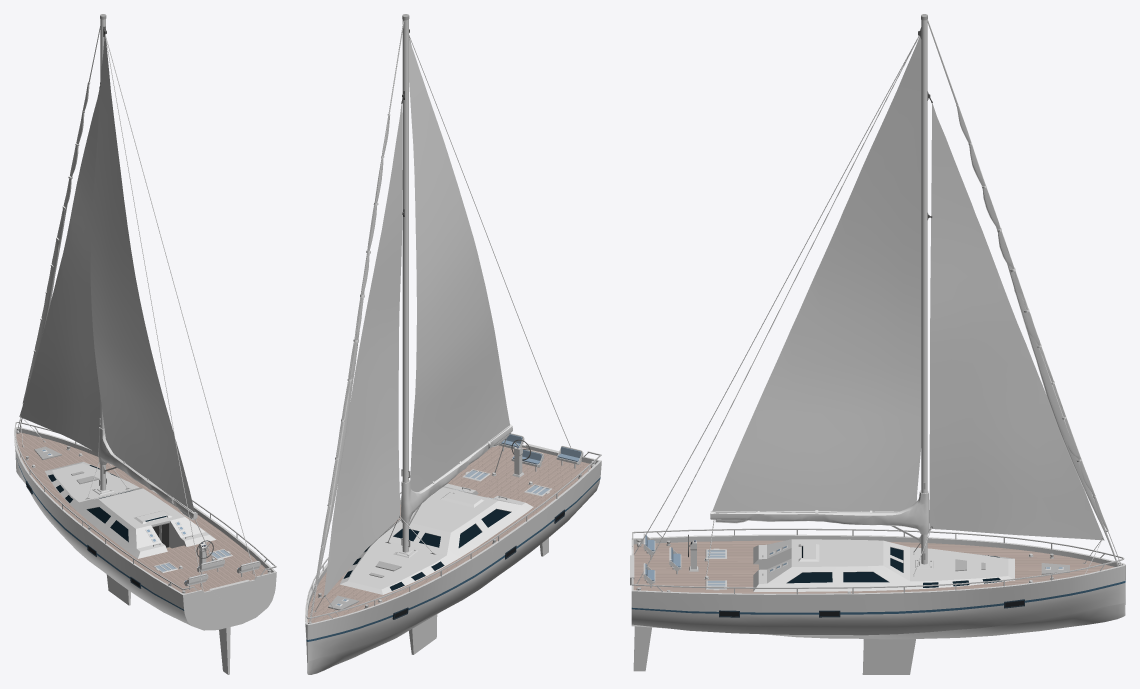
Rendered from sailboat.fbx.
3 renders of one model, left to right at view 1: azimuth 30°, elevation 25°; view 2: azimuth 150°, elevation 25°; view 3: azimuth 270°, elevation 25°, orthographic. The views are drawn at different scales.
Visible parts, largest first — view 1: sailboat_main_sail_open_inside, sailboat_main_jib_open_inside, sailboat_body, sailboat_cabin, sailboat_body_floor, main_sail_closed_A, main_jib_closed_B, sailboat_rail, sailboat_jib_closed_A, sailboat_rope_back_right, sailboat_rope_back_left, sailboat_mast (+2 smaller); view 2: sailboat_main_sail_open_inside, sailboat_main_jib_open_inside, sailboat_body, sailboat_cabin, sailboat_body_floor, sailboat_mast, main_jib_closed_B, main_sail_closed_A, sailboat_jib_closed_A, sailboat_rail, sailboat_rope_front_right, sailboat_rope_back_left (+1 smaller); view 3: sailboat_main_sail_open, sailboat_main_jib_open, sailboat_body, sailboat_cabin, sailboat_body_floor, sailboat_mast, main_sail_closed_A, sailboat_rail, sailboat_jib_closed_A, main_jib_closed_B, sailboat_rope_back_right, sailboat_rope_back_left.
Part boxes in pixels (bbox=[...]): sailboat_main_sail_open_inside: bbox=[90, 35, 194, 511]; sailboat_main_jib_open_inside: bbox=[19, 89, 100, 453]; sailboat_body: bbox=[14, 427, 276, 630]; sailboat_cabin: bbox=[45, 461, 216, 558]; sailboat_body_floor: bbox=[16, 432, 267, 593]; main_sail_closed_A: bbox=[98, 427, 197, 519]; main_jib_closed_B: bbox=[22, 81, 90, 403]; sailboat_rail: bbox=[15, 422, 276, 590]; sailboat_jib_closed_A: bbox=[19, 29, 100, 432]; sailboat_rope_back_right: bbox=[105, 34, 255, 577]; sailboat_rope_back_left: bbox=[105, 34, 203, 590]; sailboat_mast: bbox=[99, 14, 106, 490]; sailboat_main_sail_open_inside: bbox=[409, 38, 509, 491]; sailboat_main_jib_open_inside: bbox=[324, 104, 402, 597]; sailboat_body: bbox=[305, 443, 601, 674]; sailboat_cabin: bbox=[340, 483, 533, 594]; sailboat_body_floor: bbox=[307, 445, 591, 623]; sailboat_mast: bbox=[401, 14, 410, 552]; main_jib_closed_B: bbox=[314, 114, 390, 585]; main_sail_closed_A: bbox=[401, 424, 512, 523]; sailboat_jib_closed_A: bbox=[310, 21, 403, 621]; sailboat_rail: bbox=[306, 451, 601, 618]; sailboat_rope_front_right: bbox=[309, 21, 404, 622]; sailboat_rope_back_left: bbox=[409, 35, 570, 447]; sailboat_main_sail_open: bbox=[712, 36, 921, 511]; sailboat_main_jib_open: bbox=[929, 103, 1104, 540]; sailboat_body: bbox=[630, 534, 1125, 674]; sailboat_cabin: bbox=[753, 539, 1014, 591]; sailboat_body_floor: bbox=[633, 540, 1114, 593]; sailboat_mast: bbox=[918, 14, 932, 564]; main_sail_closed_A: bbox=[710, 490, 929, 534]; sailboat_rail: bbox=[632, 528, 1124, 594]; sailboat_jib_closed_A: bbox=[927, 20, 1118, 566]; main_jib_closed_B: bbox=[956, 104, 1108, 531]; sailboat_rope_back_right: bbox=[636, 35, 919, 585]; sailboat_rope_back_left: bbox=[634, 40, 916, 554].
Size of the model in its own units: 535 by 2732 by 1864.
